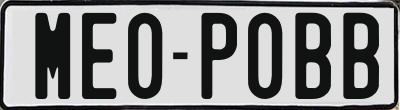0: (248, 11, 287, 100), (126, 11, 161, 98)
B: (295, 10, 336, 99), (342, 12, 380, 104)
E: (79, 10, 116, 97)
M: (35, 12, 73, 102)
P: (200, 13, 239, 99)
